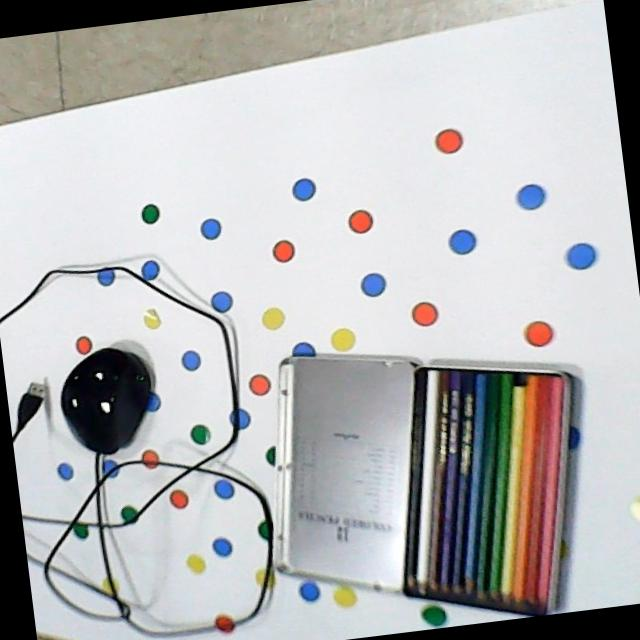color: (397, 359, 580, 617)
mouse: (52, 339, 161, 459)
